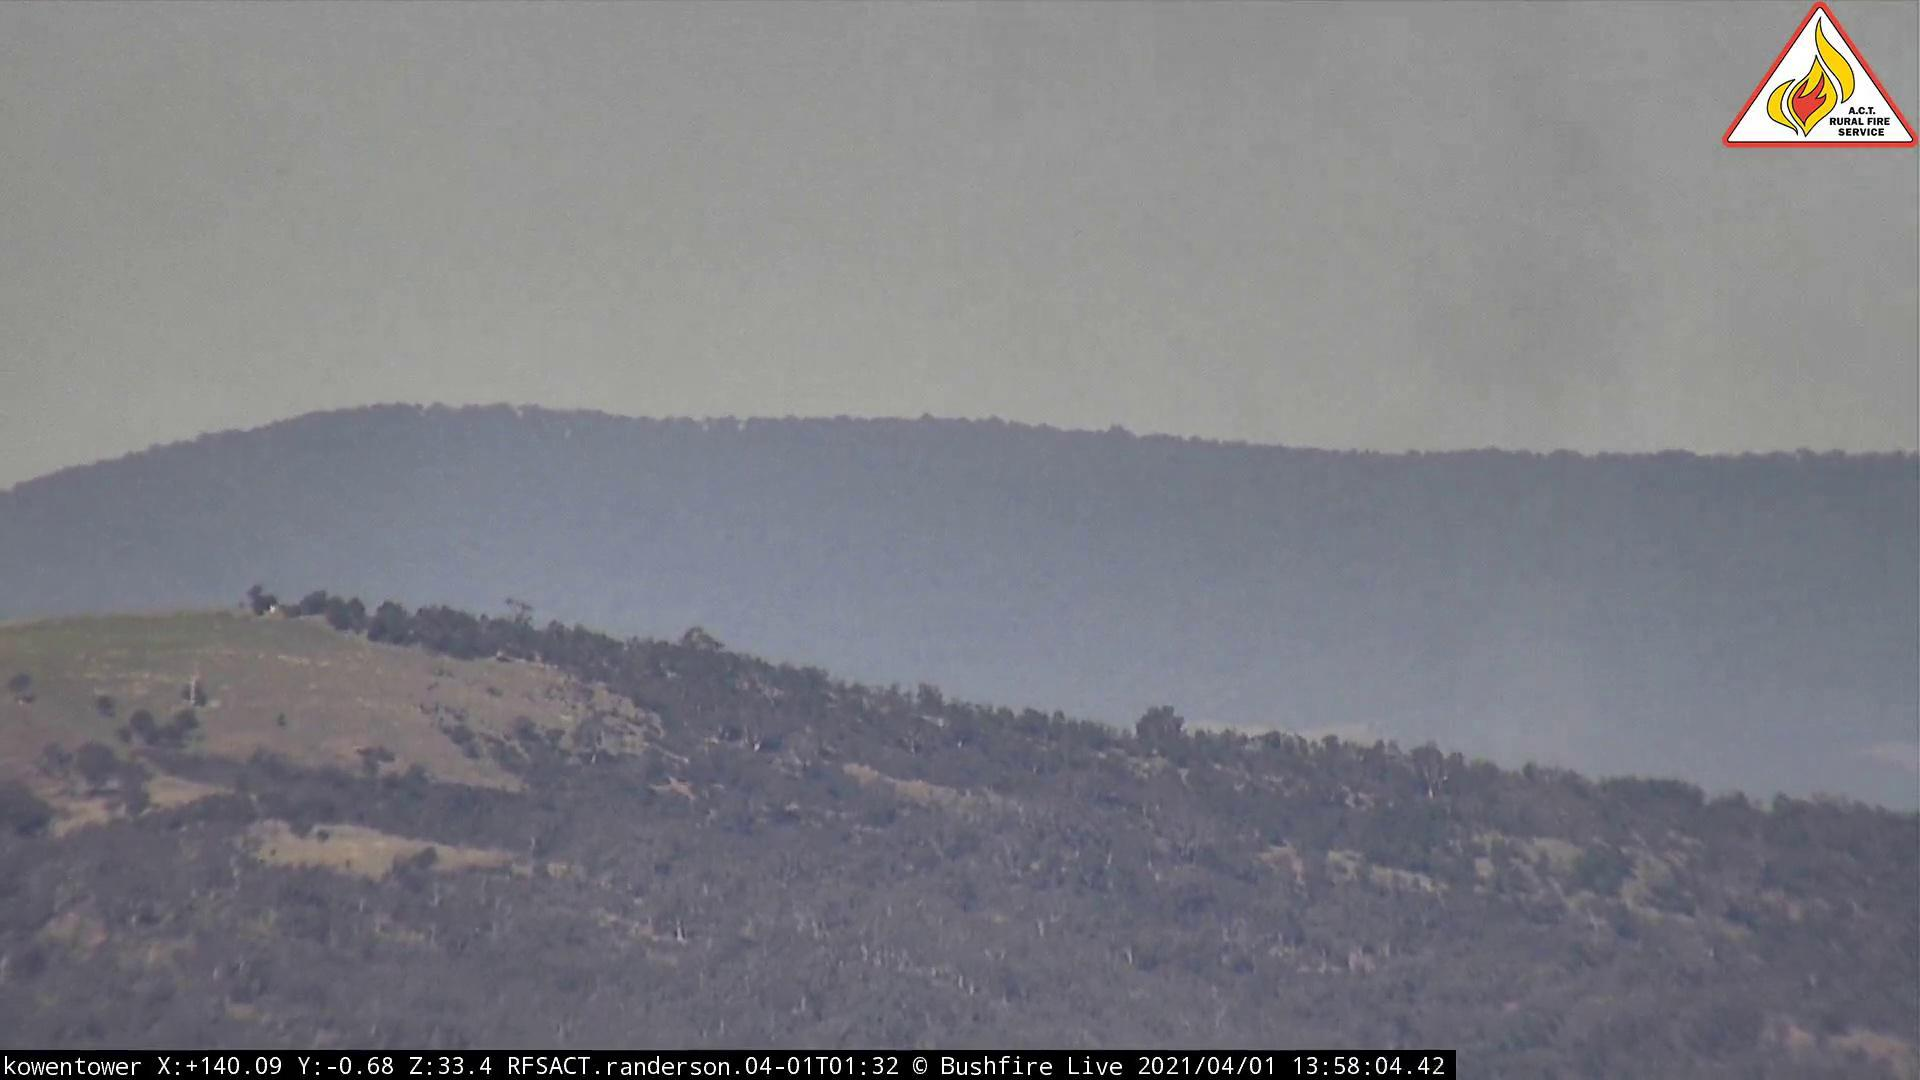Smoke: (1062, 3, 1716, 513)
